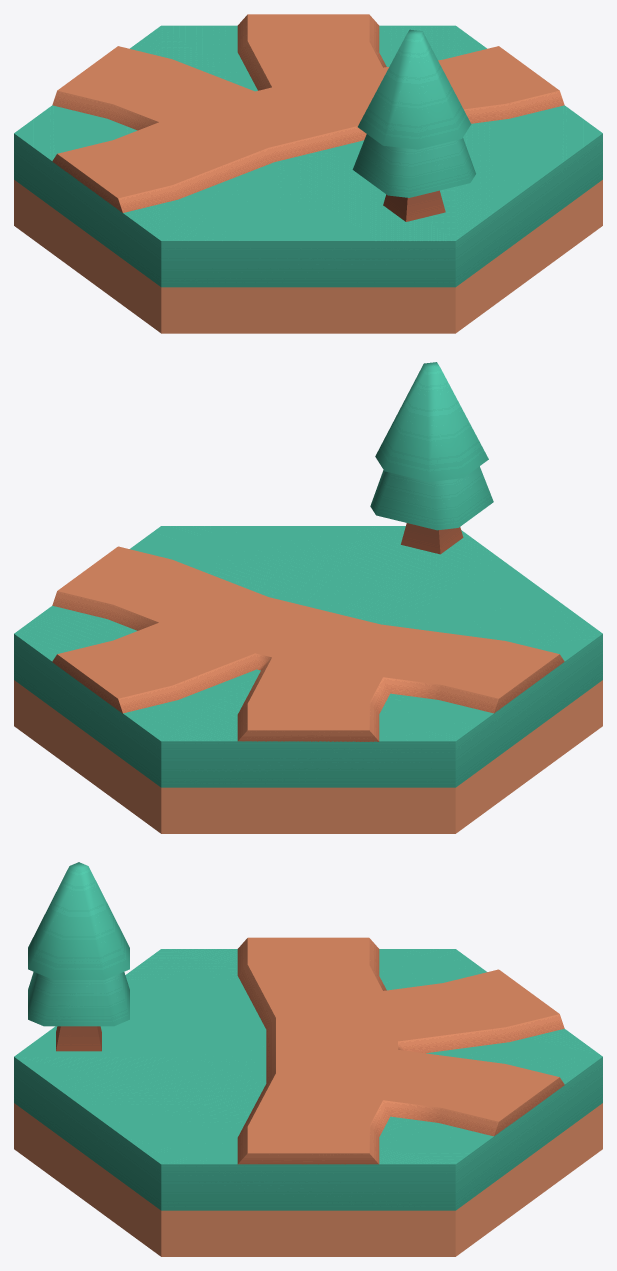
The model's file is grass-path-intersectionH-tree.glb.
The picture shows the model from 3 angles, top to bottom: view 1: azimuth 30°, elevation 25°; view 2: azimuth 150°, elevation 25°; view 3: azimuth 270°, elevation 25°; orthographic projection.
Parts seen in each view (by area): view 1: grass, path-intersectionH, unit-tree; view 2: grass, path-intersectionH, unit-tree; view 3: grass, path-intersectionH, unit-tree.
Part boxes in pixels (x1=…): grass: x1=14, y1=25, x2=602, y2=333; path-intersectionH: x1=52, y1=14, x2=564, y2=212; unit-tree: x1=352, y1=29, x2=475, y2=221; grass: x1=14, y1=526, x2=602, y2=833; path-intersectionH: x1=52, y1=546, x2=564, y2=741; unit-tree: x1=370, y1=362, x2=493, y2=554; grass: x1=14, y1=949, x2=602, y2=1256; path-intersectionH: x1=237, y1=937, x2=564, y2=1164; unit-tree: x1=28, y1=862, x2=129, y2=1051.
Bounding box in the file's own units: 1 × 0.603 × 1.15.
Materials: 1 (1 with a texture image).
